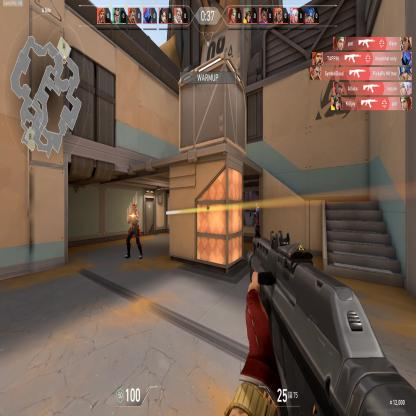enemy: (124, 202, 143, 261), (250, 202, 260, 222)
